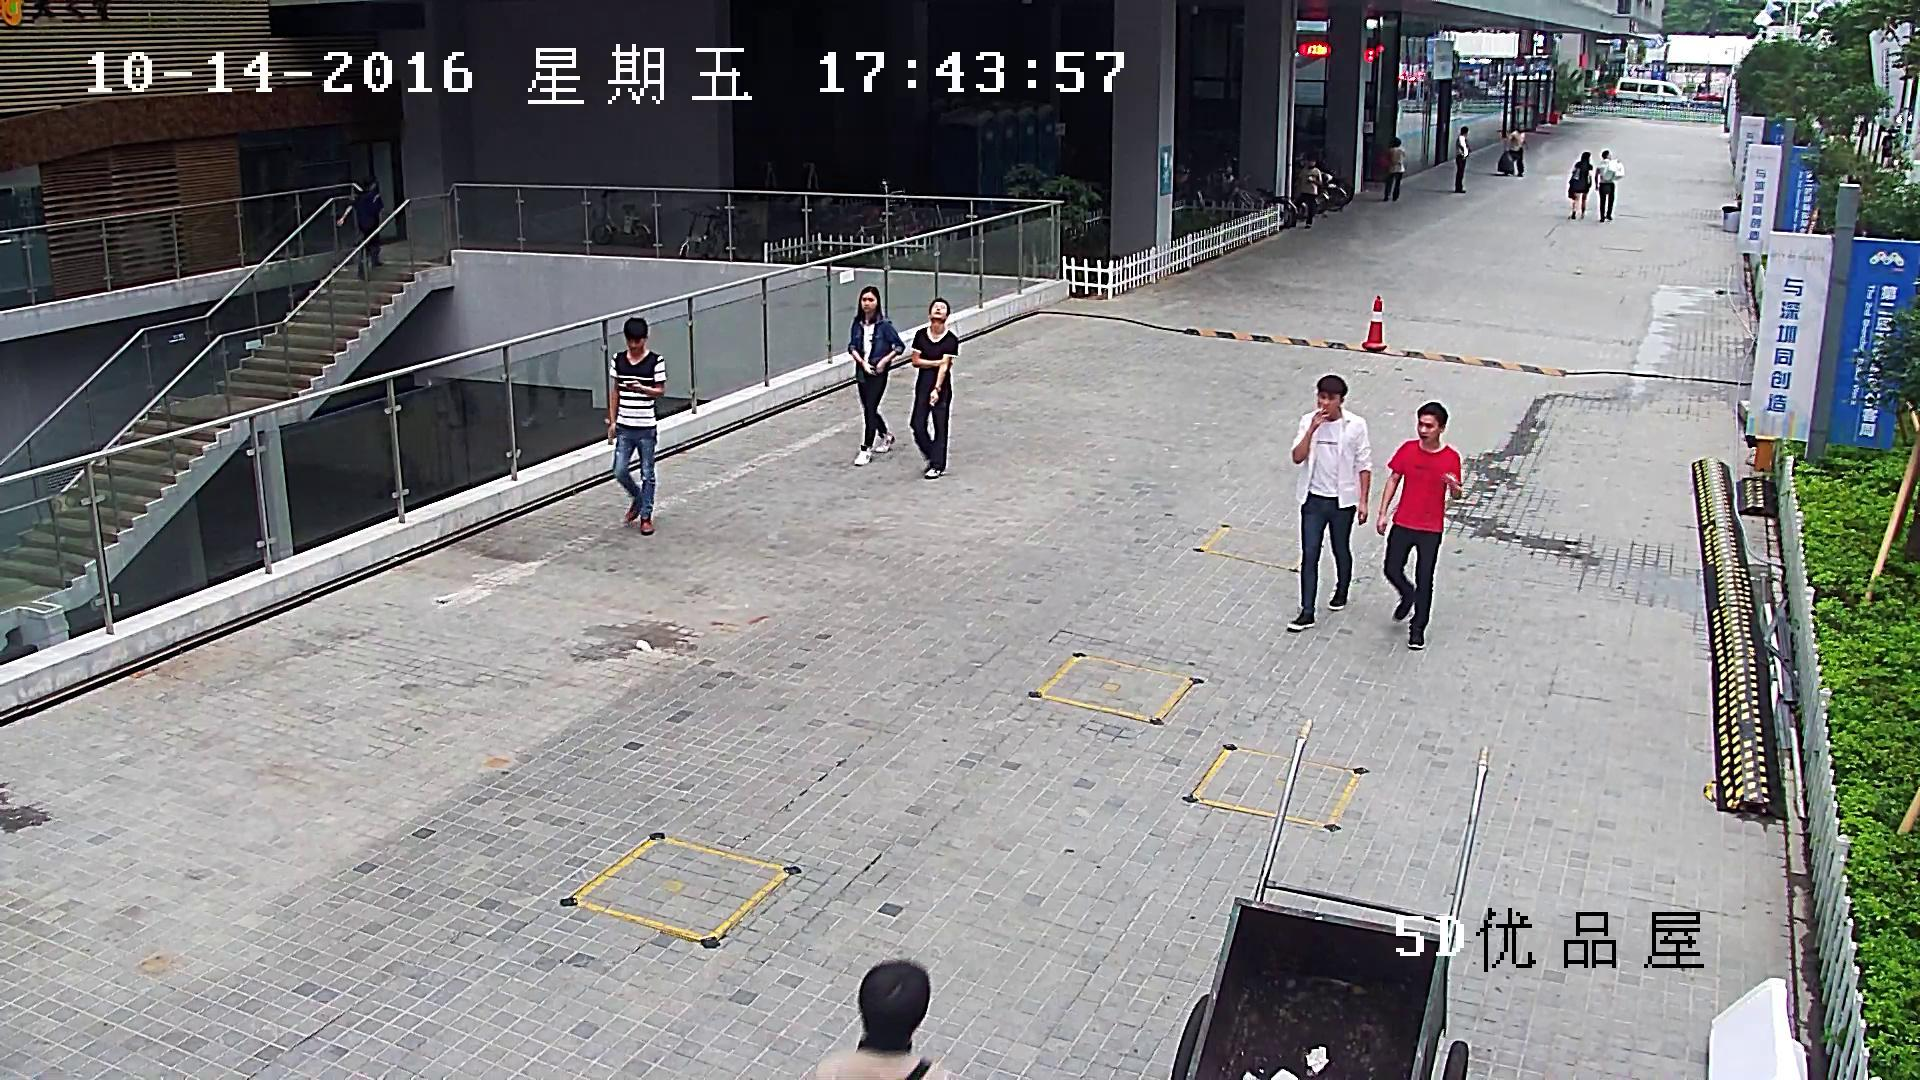person: (1284, 375, 1372, 630), (1376, 400, 1461, 649), (813, 960, 946, 1080), (609, 317, 665, 533), (849, 285, 903, 465), (909, 298, 958, 478), (337, 174, 385, 276), (519, 349, 566, 427), (1595, 150, 1624, 221), (1293, 157, 1321, 227), (1567, 151, 1593, 218), (1498, 124, 1528, 177), (1382, 136, 1405, 201), (1504, 123, 1528, 177), (1455, 126, 1470, 193)
